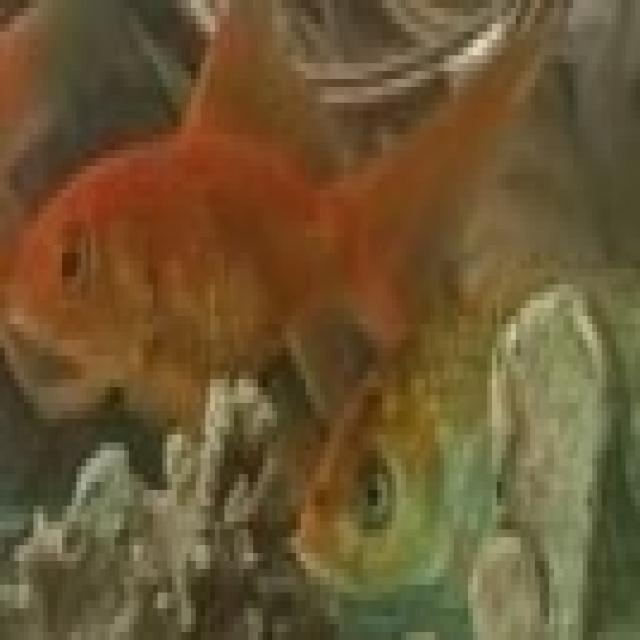Gold-Fish: (8, 48, 506, 510)
